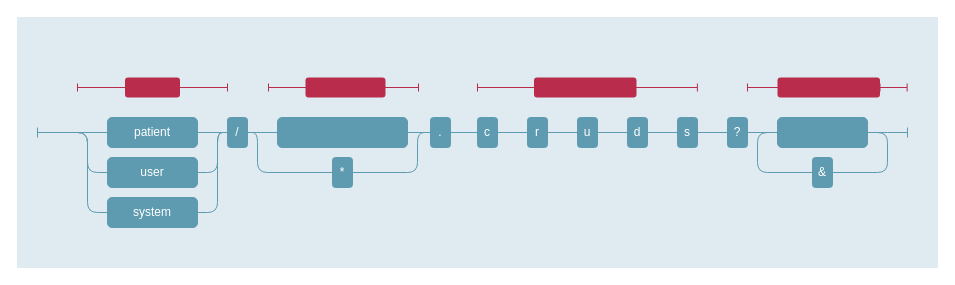
The diagram is 955 pixels wide and 285 high, and some of its shapes have lost their labels. Here are the shapes that lost their labels. From the top down, the centre of each, then its label:
At (152,87): "context".
At (345,87): "resource".
At (585,87): "access mode".
At (828,87): "query params".
At (342,132): "FHIR Resource Type".
At (822,132): "param=value".
